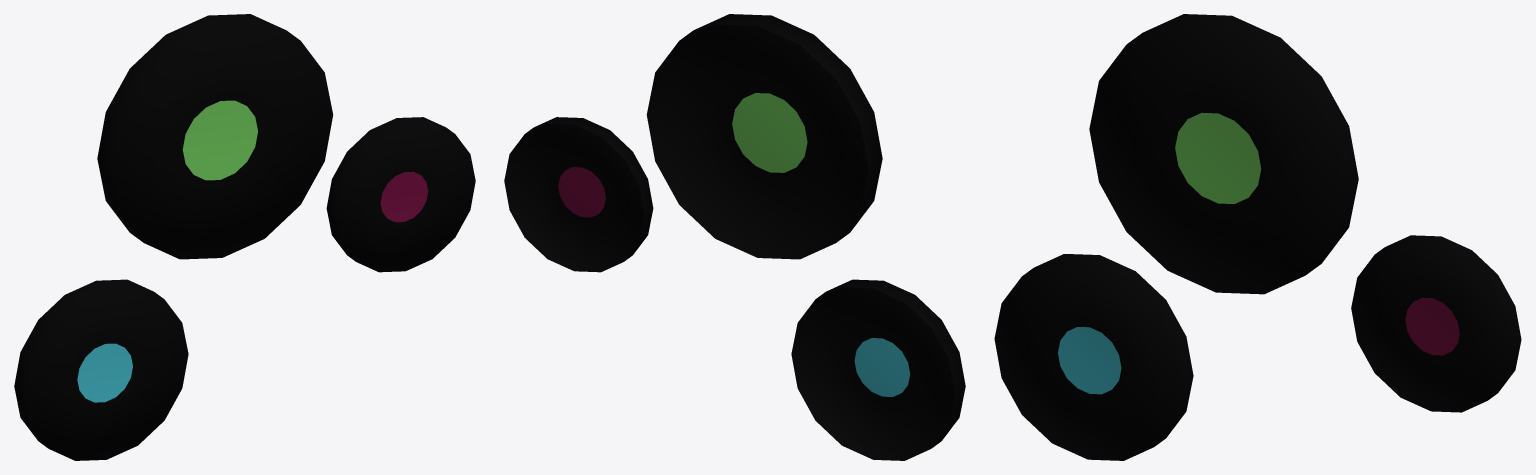
The model's file is wallB50s.glb.
3 renders of one model, left to right at view 1: azimuth 30°, elevation 25°; view 2: azimuth 150°, elevation 25°; view 3: azimuth 330°, elevation 25°, orthographic. The views are drawn at different scales.
Visible parts, largest first — view 1: wallB50s; view 2: wallB50s; view 3: wallB50s.
Boxes of the visible parts, x1,y1,x2,y2 form: wallB50s: [14, 14, 475, 460]; wallB50s: [504, 14, 965, 460]; wallB50s: [994, 14, 1521, 460].
Bounding box in the file's own units: 1.27 × 1.09 × 0.0692.
Materials: 1 (1 with a texture image).
